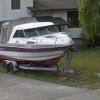Boat: (1, 3, 78, 83)
